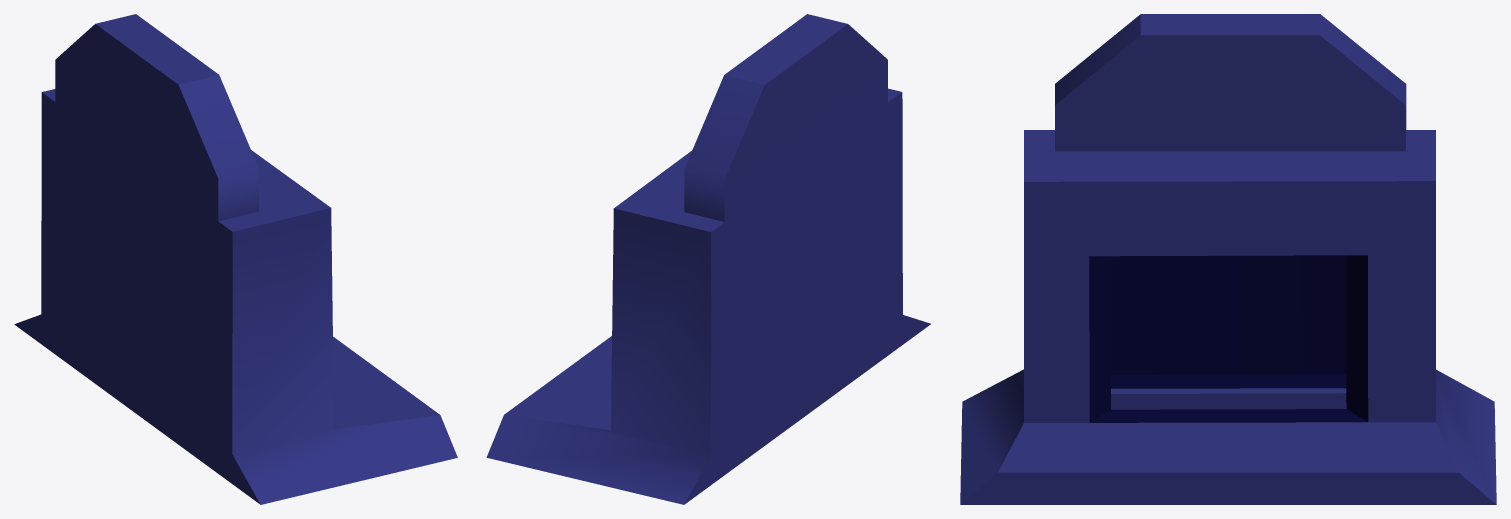
File: fireplace.fbx
The picture shows the model from 3 angles, left to right: view 1: azimuth 30°, elevation 25°; view 2: azimuth 150°, elevation 25°; view 3: azimuth 270°, elevation 25°; orthographic projection. The views are drawn at different scales.
Visible parts, largest first — view 1: pCube1; view 2: pCube1; view 3: pCube1.
Boxes of the visible parts, x1=… form: pCube1: x1=14, y1=14, x2=457, y2=504; pCube1: x1=486, y1=14, x2=930, y2=504; pCube1: x1=960, y1=14, x2=1496, y2=504.
Size of the model in its own units: 1.01 by 1.77 by 2.22.
